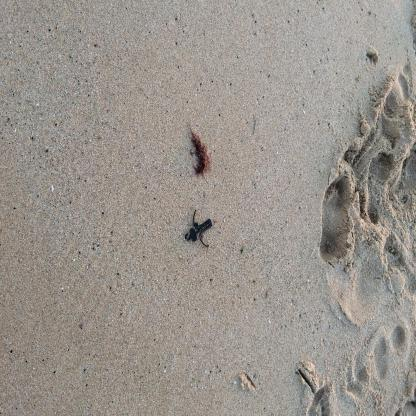plastik: (184, 210, 213, 247)
